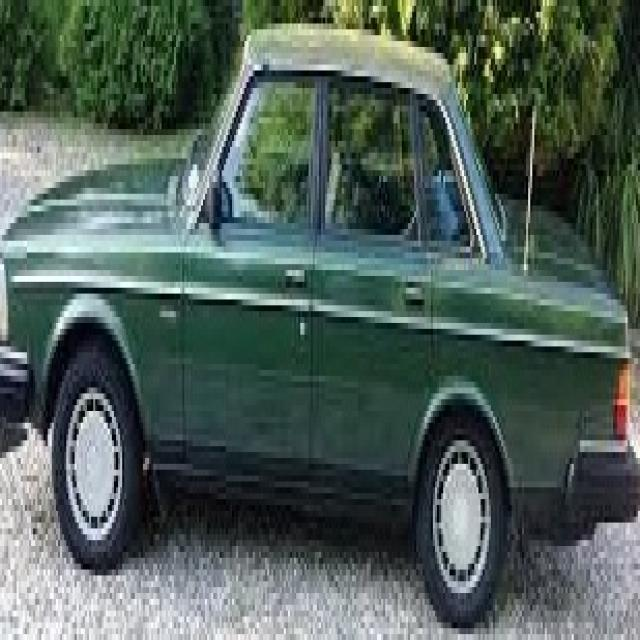green: (0, 25, 638, 621)
